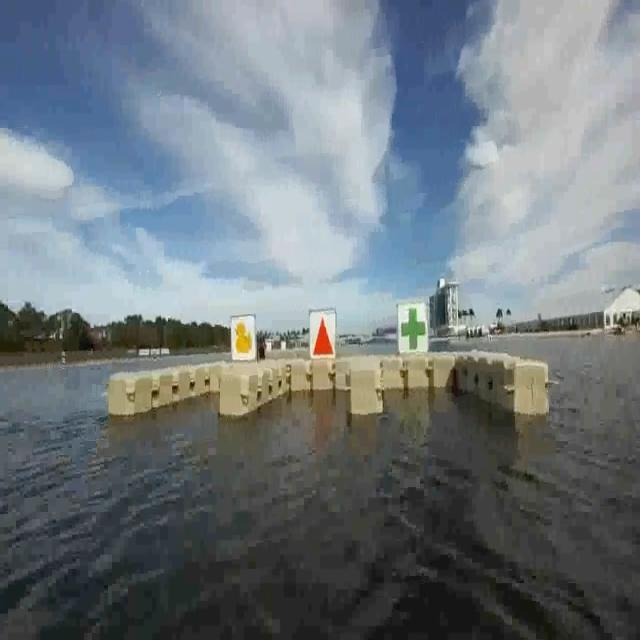blue-cross: (400, 296, 428, 357)
red-dot: (310, 308, 336, 361)
yellow-duck: (230, 314, 256, 364)
